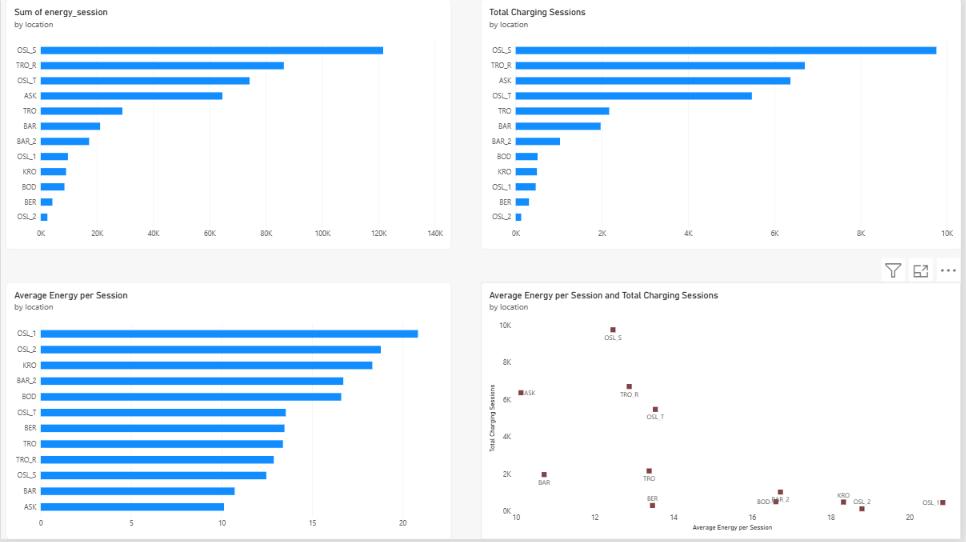

This screenshot's page, from the dashboard's own definition file:
{"tool":"powerbi","page":{"name":"Charging Behaviour","canvas":[1920,1080],"ordinal":1},"visuals":[{"type":"clusteredBarChart","fields":{"Category":["src_charging_reports.location"],"Y":["Sum(src_charging_reports.energy_session)"]},"box":[10.3,0,506.3,500.2],"z":0},{"type":"clusteredBarChart","fields":{"Category":["src_charging_reports.location"],"Y":["src_charging_reports.Total Charging Sessions"]},"box":[708.1,0,629.8,500.2],"z":1000},{"type":"clusteredBarChart","fields":{"Category":["src_charging_reports.location"],"Y":["src_charging_reports.Average Energy per Session"]},"box":[10,510,506,500],"z":2000},{"type":"scatterChart","fields":{"Category":["src_charging_reports.location"],"X":["src_charging_reports.Average Energy per Session"],"Y":["src_charging_reports.Total Charging Sessions"]},"box":[526.9,510.5,1173.2,500.2],"z":3000}]}

Visuals, with their boxes in screenshot pixels (x1, y1, x2, y2), scaled from the page's 1920x1080 canvas onto the 966x542 screenshot:
clusteredBarChart - src_charging_reports.location x Sum(src_charging_reports.energy_session): box=[5, 0, 260, 251]
clusteredBarChart - src_charging_reports.location x src_charging_reports.Total Charging Sessions: box=[356, 0, 673, 251]
clusteredBarChart - src_charging_reports.location x src_charging_reports.Average Energy per Session: box=[5, 256, 260, 507]
scatterChart - src_charging_reports.location x src_charging_reports.Average Energy per Session: box=[265, 256, 855, 507]
